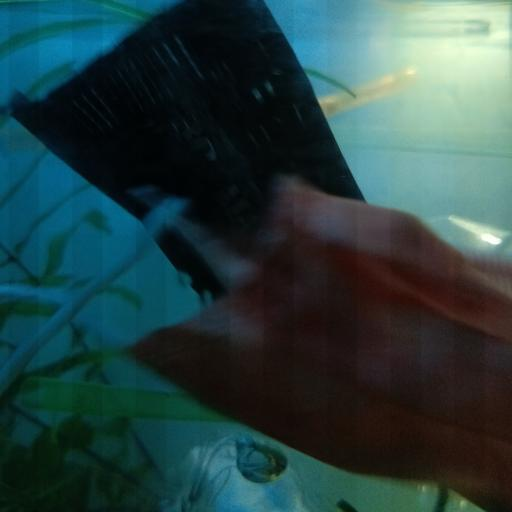mask: (124, 168, 512, 512), (0, 0, 369, 297)
plastic_straw: (4, 372, 232, 428), (323, 65, 415, 116)
